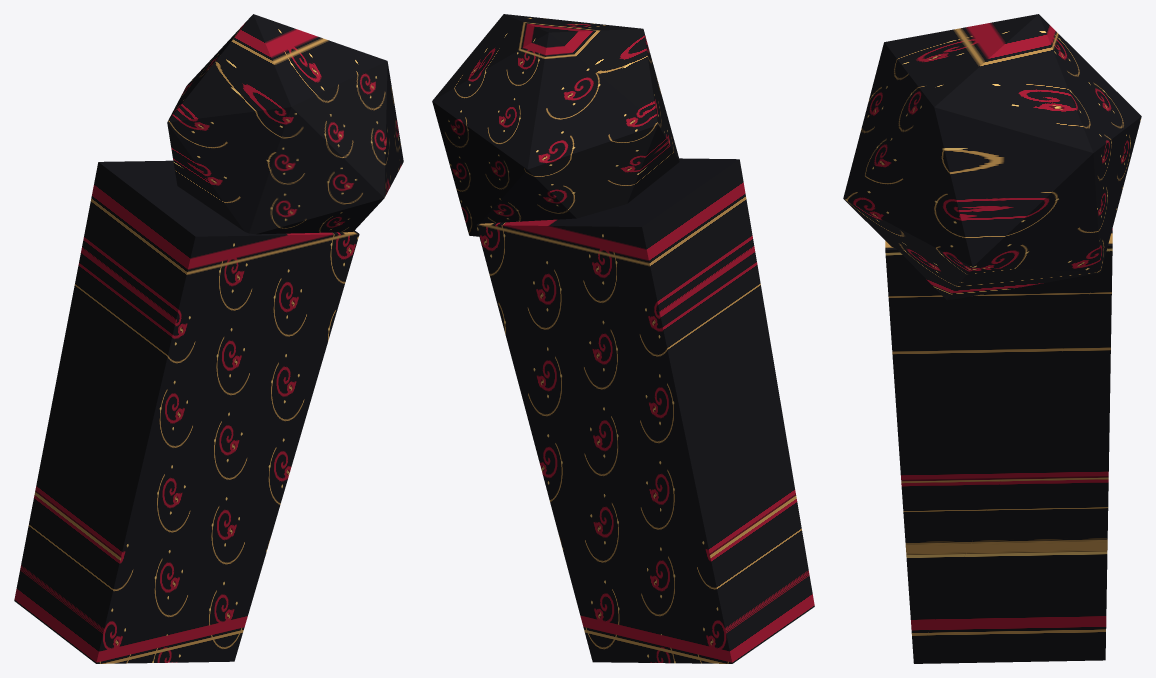
File: Fermin_BrazoDer.obj
The picture shows the model from 3 angles, left to right: view 1: azimuth 30°, elevation 25°; view 2: azimuth 150°, elevation 25°; view 3: azimuth 270°, elevation 25°; orthographic projection. The views are drawn at different scales.
Visible parts, largest first — view 1: Cube_012_color_fabric, Icosphere_003_color_fabric; view 2: Cube_012_color_fabric, Icosphere_003_color_fabric; view 3: Cube_012_color_fabric, Icosphere_003_color_fabric.
Part boxes in pixels (left/top/right/bottom): Cube_012_color_fabric: left=14, top=160, right=359, bottom=663; Icosphere_003_color_fabric: left=167, top=14, right=403, bottom=234; Cube_012_color_fabric: left=476, top=158, right=814, bottom=663; Icosphere_003_color_fabric: left=432, top=14, right=679, bottom=236; Cube_012_color_fabric: left=885, top=228, right=1112, bottom=663; Icosphere_003_color_fabric: left=843, top=14, right=1141, bottom=300.
Size of the model in its own units: 0.9114 by 1.55 by 0.6049.
1 material, 1 textured.
